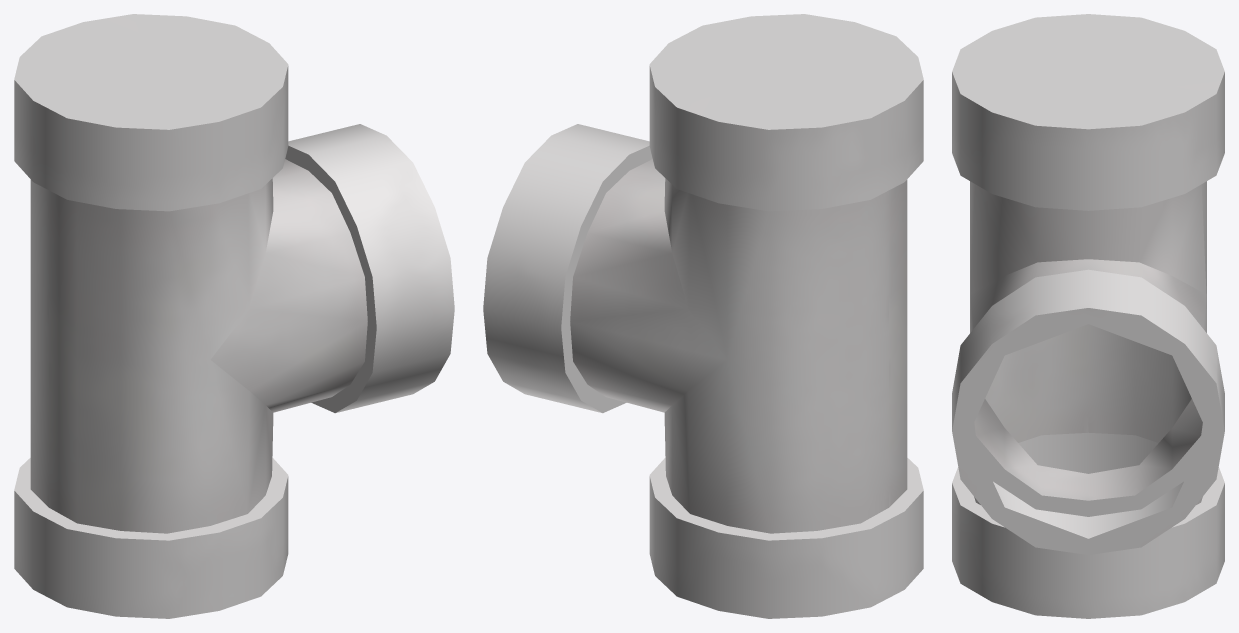
Rendered from Pipe_S2__2.fbx.
3 renders of one model, left to right at view 1: azimuth 30°, elevation 25°; view 2: azimuth 150°, elevation 25°; view 3: azimuth 270°, elevation 25°, orthographic.
Parts seen in each view (by area): view 1: Mat_Pipe_01 2; view 2: Mat_Pipe_01 2; view 3: Mat_Pipe_01 2.
Boxes of the visible parts, x1,y1,x2,y2 form: Mat_Pipe_01 2: (14, 14, 454, 618); Mat_Pipe_01 2: (483, 14, 923, 618); Mat_Pipe_01 2: (952, 14, 1224, 618).
Bounding box in the file's own units: 0.5172 × 0.684 × 0.3455.
1 material, 1 textured.
